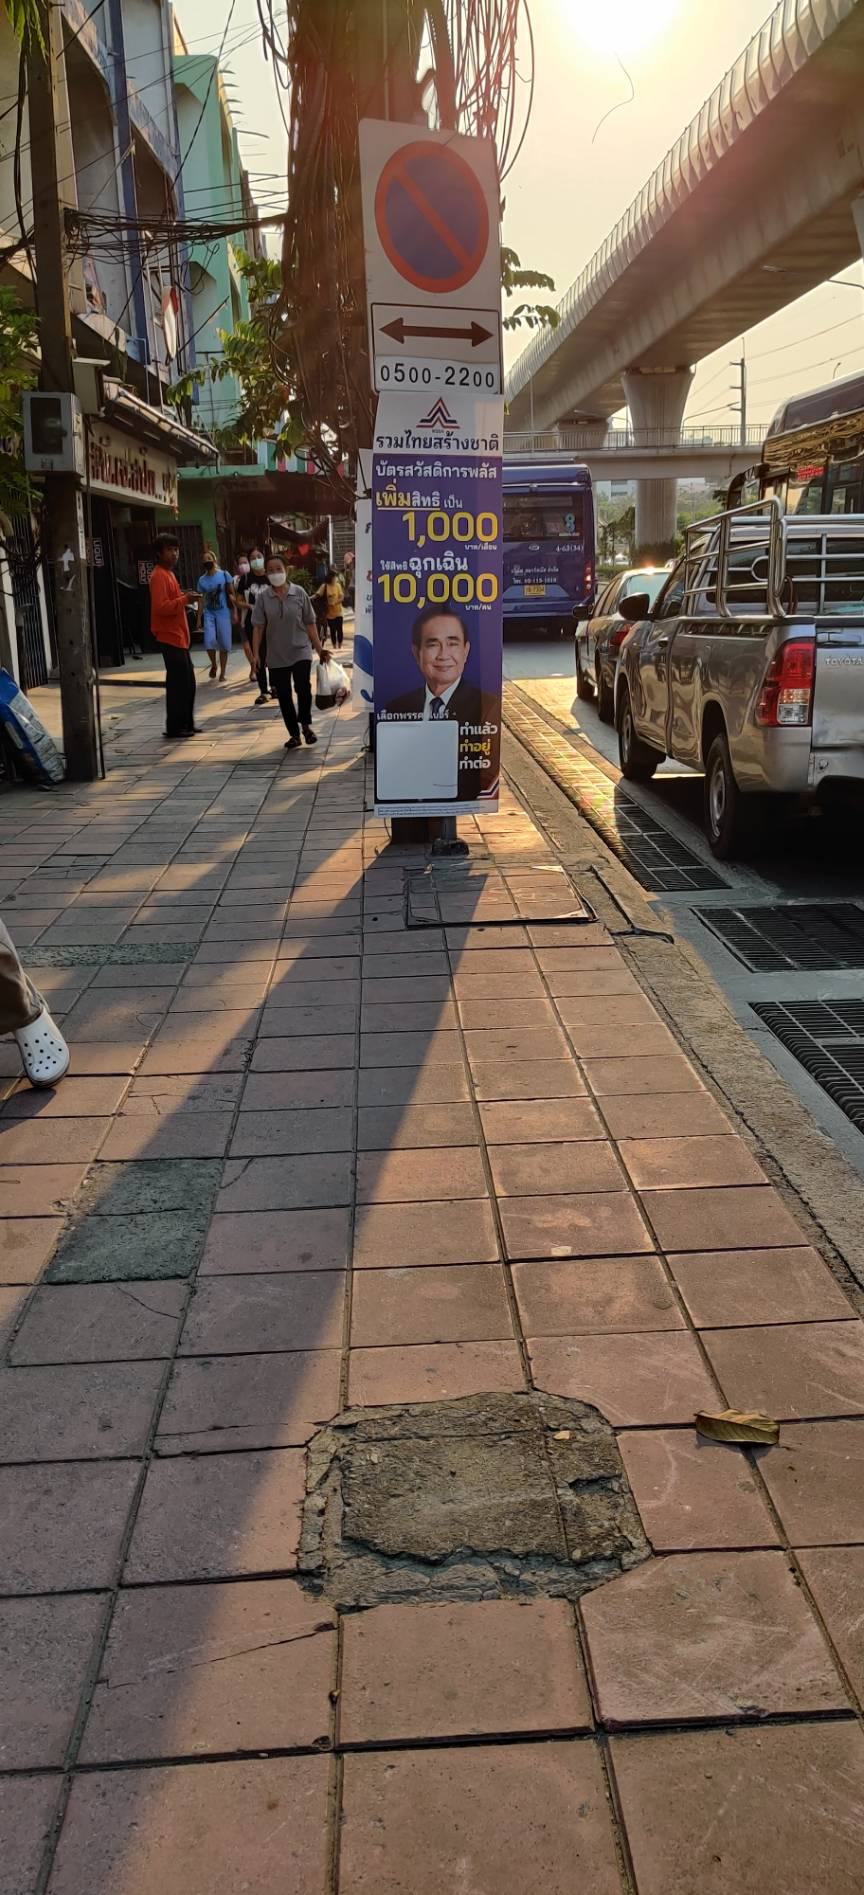Banner: (358, 377, 509, 821)
